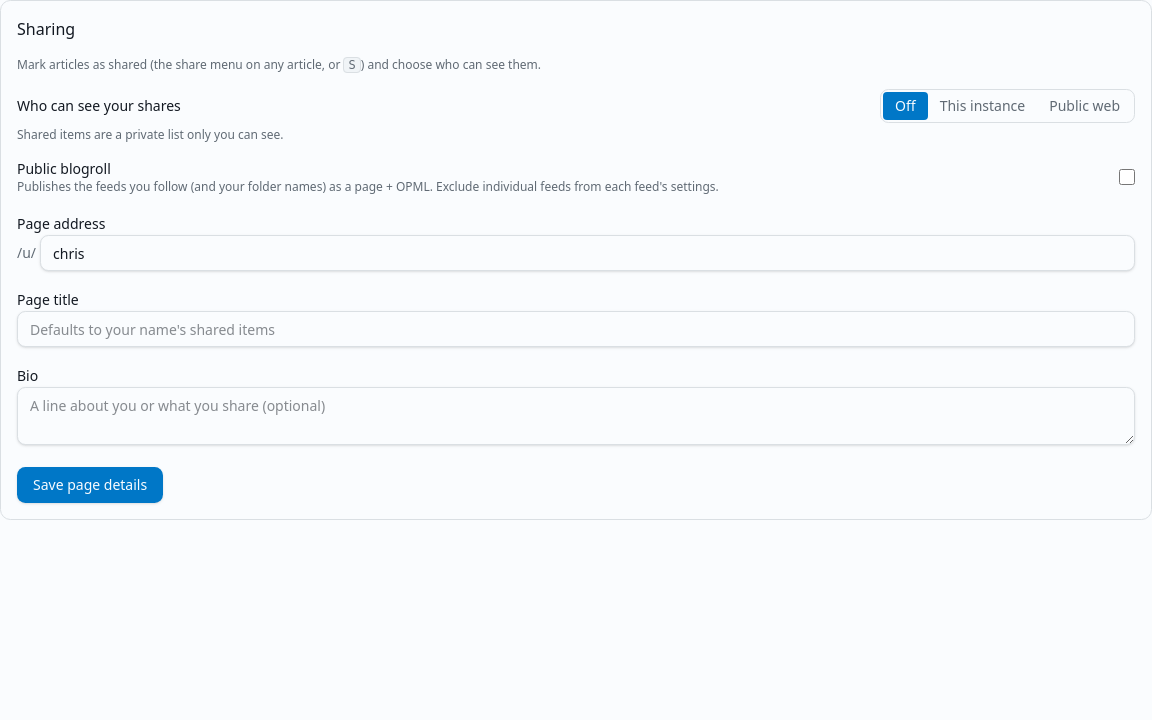
Test: a failed save puts the old visibility back and says why
Click the button "Public web" at (1085, 106), box [1037,92,1132,120]
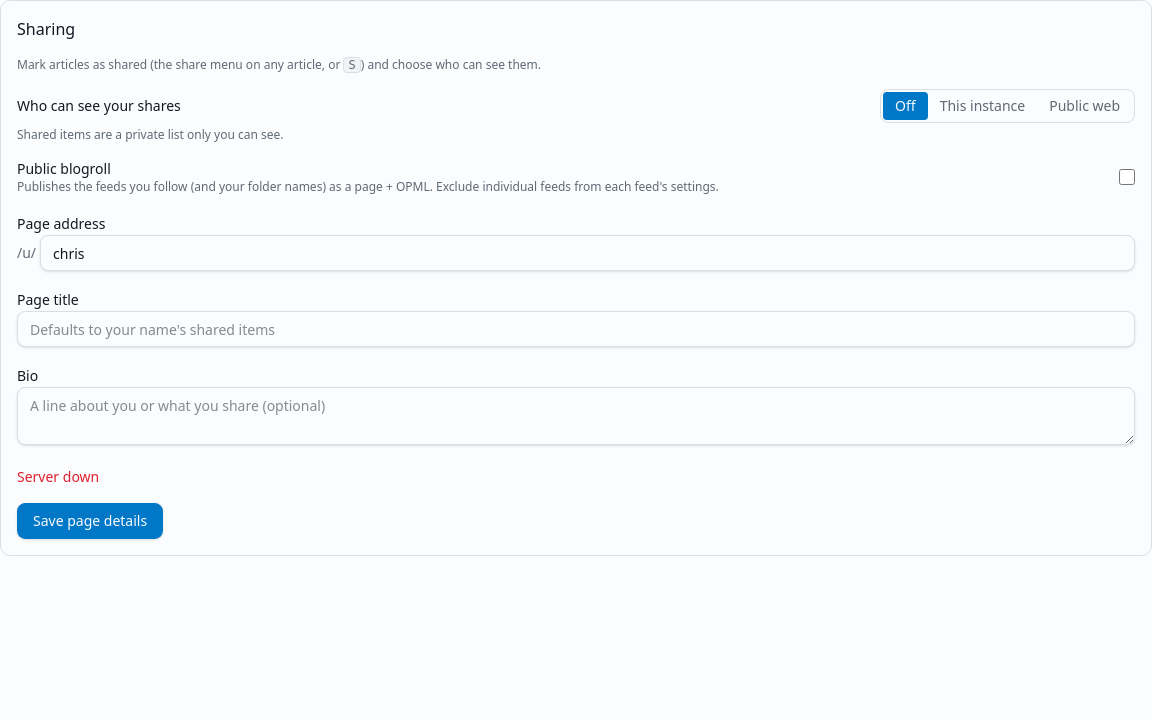
Check: the text "Server down" is shown, box [17,467,99,486]
